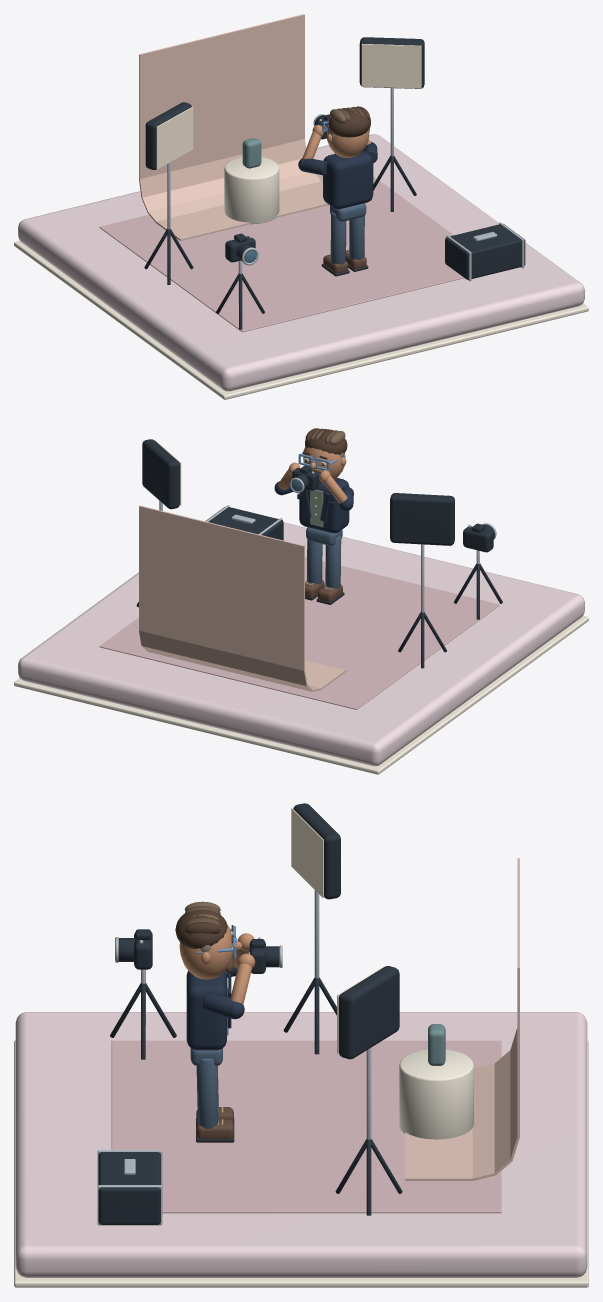
File: photography.glb
The picture shows the model from 3 angles, top to bottom: view 1: azimuth 30°, elevation 25°; view 2: azimuth 150°, elevation 25°; view 3: azimuth 270°, elevation 25°; orthographic projection. The views are drawn at different scales.
Parts seen in each view (by area): view 1: Square floating plinth.001, Curved photo backdrop, Studio mat, Ivory lower edge.001, Display pedestal, Case body, Diffuser.001, Jacket body.001, Diffuser, Softbox housing, Softbox housing.001, Hair cap.001 (+4 smaller); view 2: Square floating plinth.001, Curved photo backdrop, Studio mat, Ivory lower edge.001, Softbox housing, Softbox housing.001, Case body, Jacket body.001, Trouser leg.001, Trouser leg, Camera body.001, Face.001 (+2 smaller); view 3: Square floating plinth.001, Studio mat, Curved photo backdrop, Ivory lower edge.001, Display pedestal, Softbox housing.001, Case body, Jacket body.001, Diffuser, Softbox housing, Face.001, Trouser leg (+2 smaller).
Boxes of the visible parts, x1,y1,x2,y2 form: Square floating plinth.001: (18, 134, 584, 391); Curved photo backdrop: (139, 14, 328, 240); Studio mat: (99, 174, 464, 332); Ivory lower edge.001: (14, 241, 588, 399); Display pedestal: (224, 157, 279, 224); Case body: (445, 224, 525, 279); Diffuser.001: (361, 43, 421, 88); Jacket body.001: (323, 150, 373, 209); Diffuser: (156, 106, 193, 169); Softbox housing: (145, 102, 191, 169); Softbox housing.001: (359, 37, 424, 88); Hair cap.001: (328, 107, 370, 137); Square floating plinth.001: (18, 522, 584, 766); Curved photo backdrop: (139, 505, 345, 691); Studio mat: (99, 557, 499, 709); Ivory lower edge.001: (14, 615, 588, 774); Softbox housing: (390, 493, 454, 545); Softbox housing.001: (142, 439, 179, 509); Case body: (205, 507, 283, 540); Jacket body.001: (299, 478, 349, 533); Trouser leg.001: (325, 535, 341, 588); Trouser leg: (306, 540, 322, 584); Camera body.001: (463, 526, 493, 552); Face.001: (303, 447, 345, 479); Square floating plinth.001: (15, 1012, 587, 1277); Studio mat: (111, 1040, 501, 1213); Curved photo backdrop: (405, 858, 519, 1180); Ivory lower edge.001: (14, 1040, 588, 1287); Display pedestal: (399, 1049, 473, 1139); Softbox housing.001: (338, 966, 399, 1059); Case body: (98, 1152, 160, 1224); Jacket body.001: (186, 971, 226, 1050); Diffuser: (291, 808, 323, 897); Softbox housing: (293, 803, 340, 899); Face.001: (179, 925, 233, 979); Trouser leg: (196, 1058, 218, 1128).
Size of the model in its own units: 5.53 by 2.81 by 5.53.
